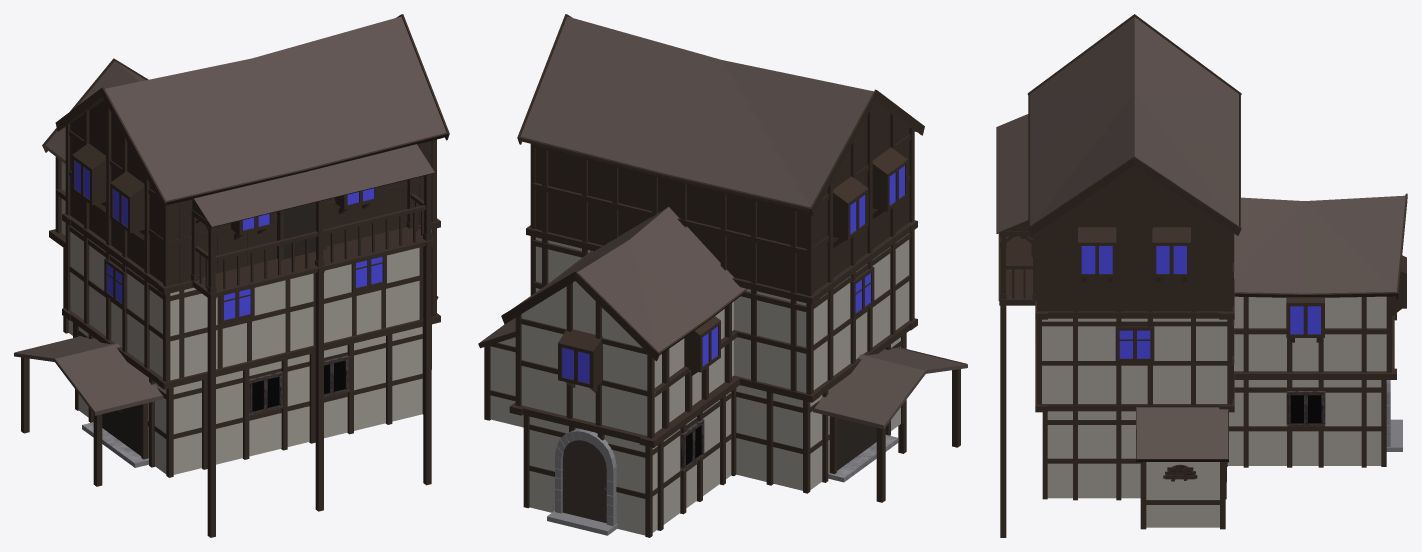
The model's file is House_Cap_8.glb.
The picture shows the model from 3 angles, left to right: view 1: azimuth 30°, elevation 25°; view 2: azimuth 150°, elevation 25°; view 3: azimuth 270°, elevation 25°; orthographic projection. The views are drawn at different scales.
Visible parts, largest first — view 1: House_Cap_8; view 2: House_Cap_8; view 3: House_Cap_8.
Part boxes in pixels (left/top/right/bottom): House_Cap_8: left=14, top=14, right=449, bottom=537; House_Cap_8: left=478, top=14, right=967, bottom=537; House_Cap_8: left=996, top=14, right=1407, bottom=537.
Size of the model in its own units: 8.29 by 8.45 by 7.88.
Materials: 32 (32 with a texture image).
